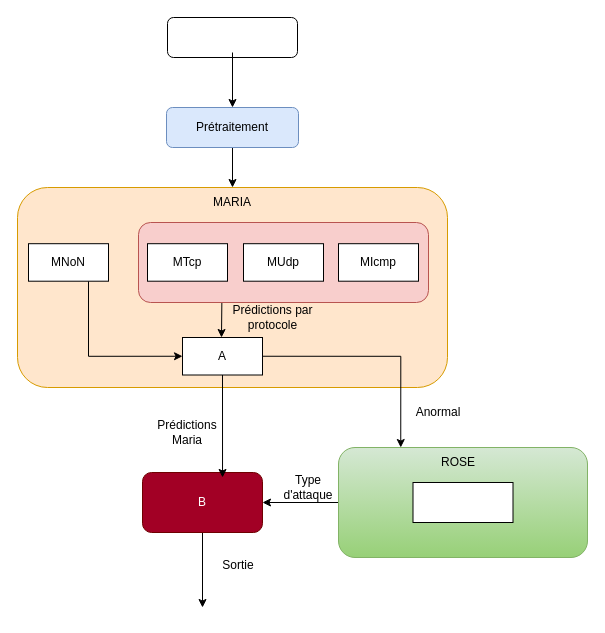
This 605x633 diagram has some shape labels left out. The shapes that lost their labels are listed below. From the top down, each one's centre as x and y in pixels, then its label:
At point 232,37: "Dataset".
At point 462,502: "MRose".
